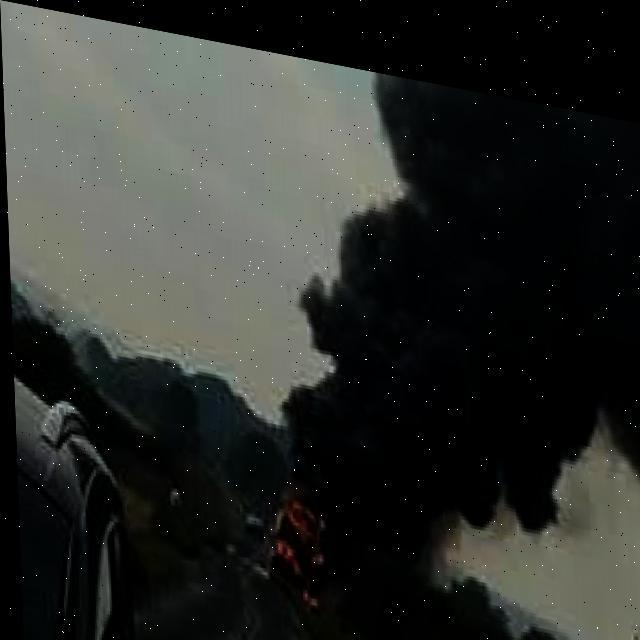Fire: (256, 460, 336, 605)
